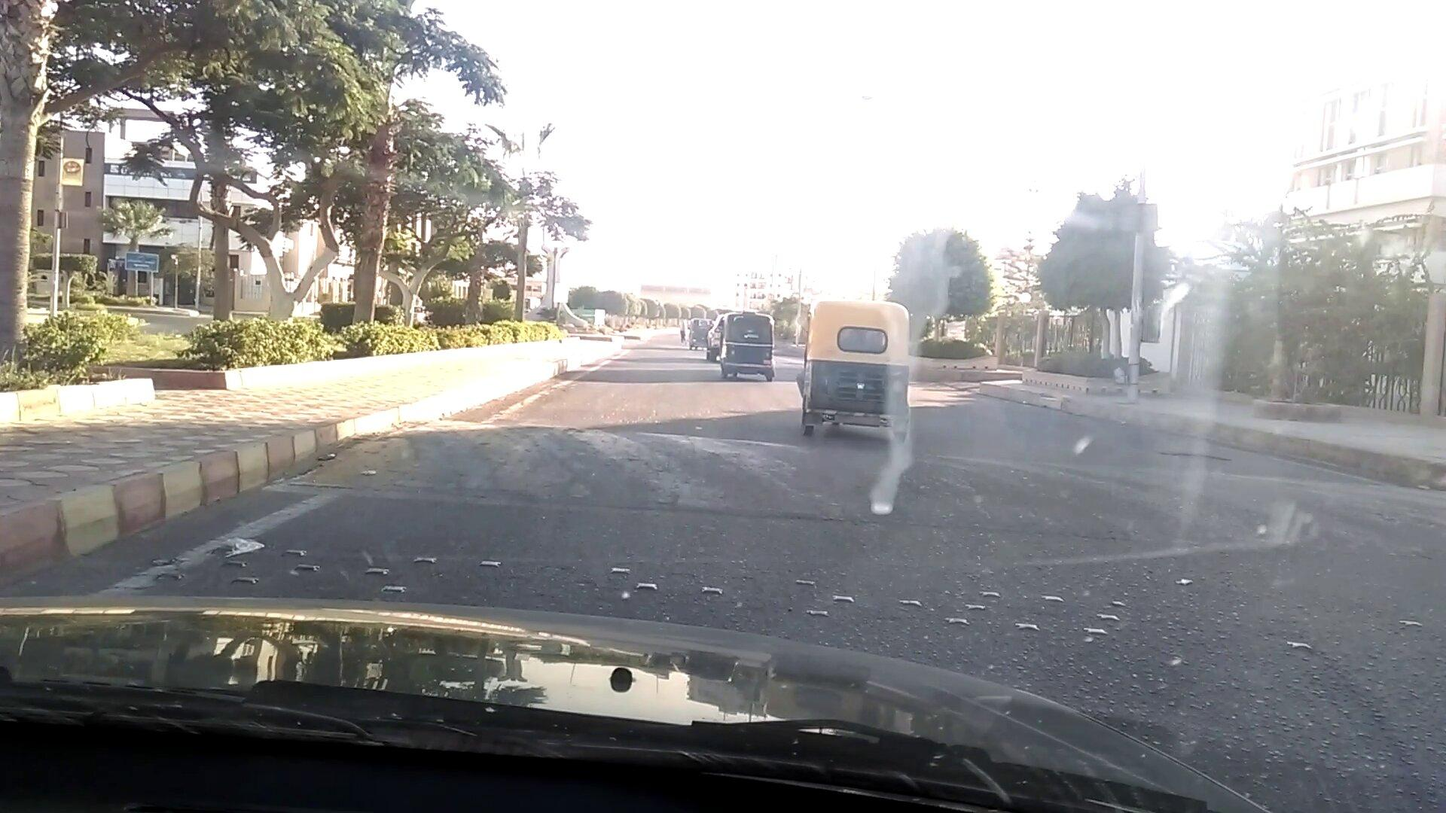Bump: (345, 411, 1445, 558)
